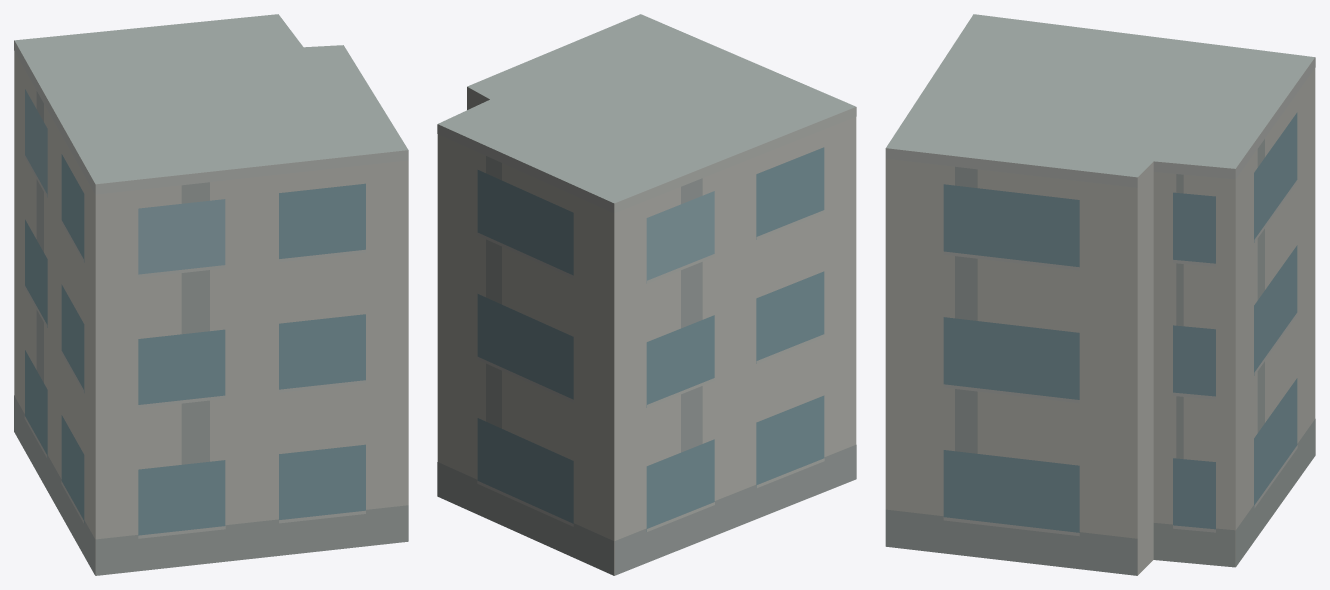
Rendered from survey-upis-32639844.glb.
3 views of the same model, side by side, from view 1: azimuth 30°, elevation 25°; view 2: azimuth 150°, elevation 25°; view 3: azimuth 270°, elevation 25° (orthographic). The views are drawn at different scales.
Parts seen in each view (by area): view 1: survey-upis-32639844.tmp; view 2: survey-upis-32639844.tmp; view 3: survey-upis-32639844.tmp.
Part boxes in pixels (left/top/right/bottom): survey-upis-32639844.tmp: left=14, top=14, right=408, bottom=575; survey-upis-32639844.tmp: left=437, top=14, right=856, bottom=575; survey-upis-32639844.tmp: left=885, top=14, right=1315, bottom=575.
Size of the model in its own units: 8.05 by 9.15 by 8.95.
